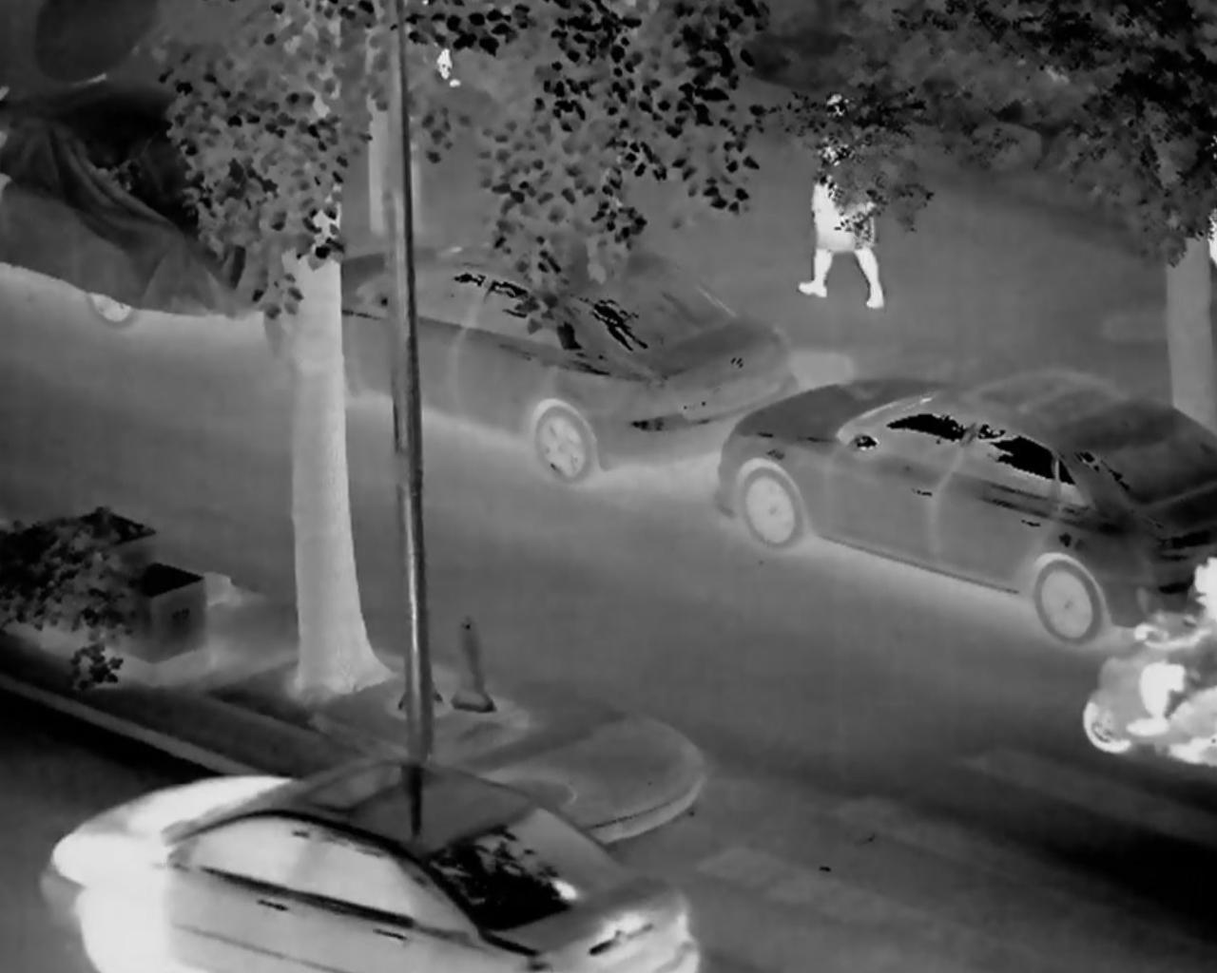person: (783, 100, 896, 338), (1114, 542, 1217, 764)
